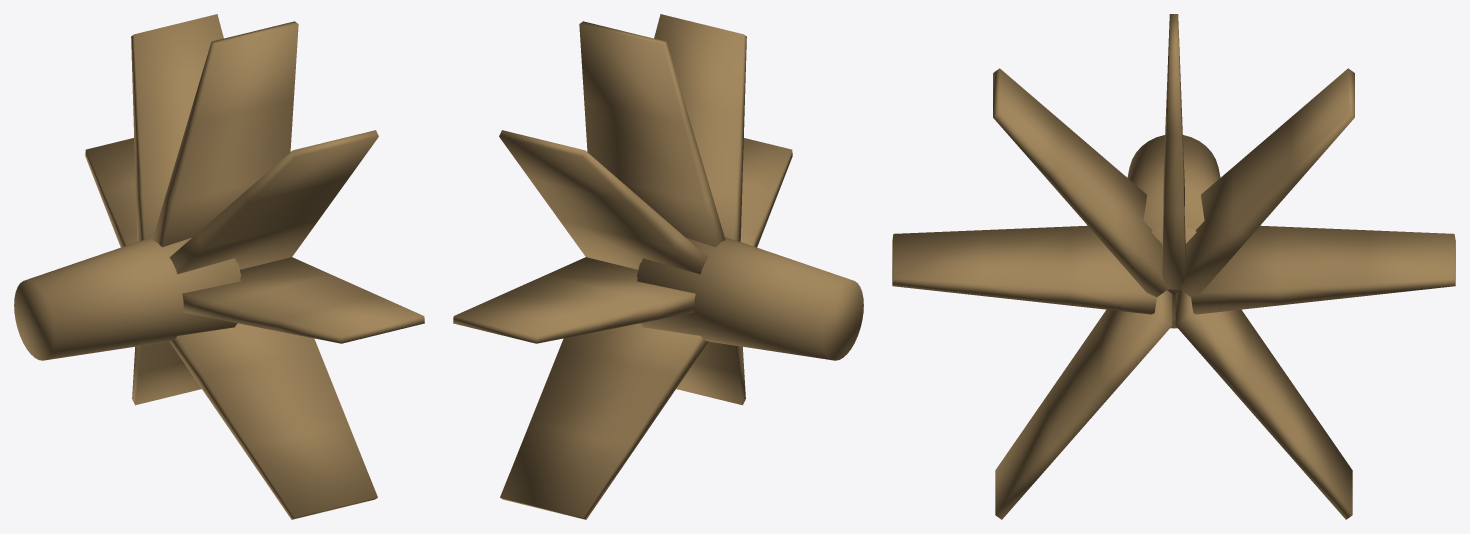
The model's file is UK_SSN_Swiftsure_PROPULSOR_01.fbx.
3 renders of one model, left to right at view 1: azimuth 30°, elevation 25°; view 2: azimuth 150°, elevation 25°; view 3: azimuth 270°, elevation 25°, orthographic. The views are drawn at different scales.
Parts seen in each view (by area): view 1: UK_SSN_Swiftsure_PROPULSOR_01; view 2: UK_SSN_Swiftsure_PROPULSOR_01; view 3: UK_SSN_Swiftsure_PROPULSOR_01.
Boxes of the visible parts, x1,y1,x2,y2 form: UK_SSN_Swiftsure_PROPULSOR_01: [14, 14, 424, 519]; UK_SSN_Swiftsure_PROPULSOR_01: [453, 14, 863, 519]; UK_SSN_Swiftsure_PROPULSOR_01: [892, 14, 1455, 519].
Size of the model in its own units: 2.2 by 3.73 by 3.37.
